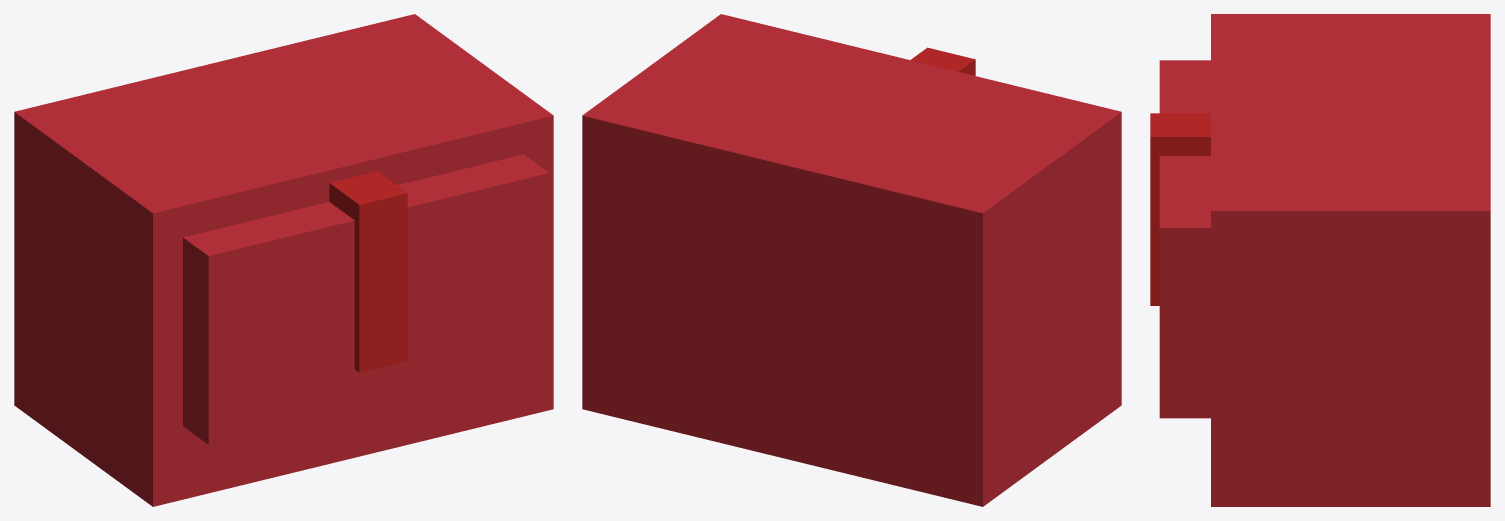
The model's file is body_003_valkyrion.obj.
3 views of the same model, side by side, from view 1: azimuth 30°, elevation 25°; view 2: azimuth 150°, elevation 25°; view 3: azimuth 270°, elevation 25° (orthographic).
Size of the model in its own units: 1 by 0.7 by 0.73.
